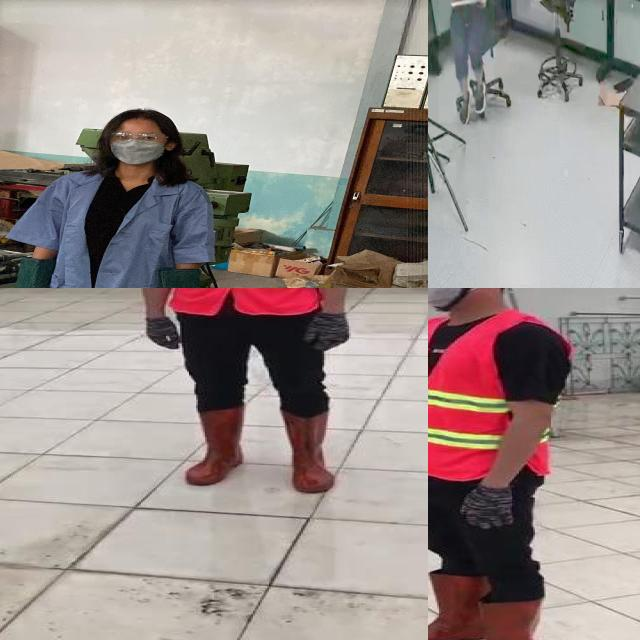boots: (428, 565, 502, 640), (183, 409, 247, 487), (283, 411, 337, 496), (440, 597, 545, 640)
face_mask: (108, 129, 168, 162), (428, 288, 473, 307)
glasses: (106, 130, 172, 145)
hand_glove: (460, 486, 516, 528), (299, 314, 349, 352), (148, 316, 184, 352), (9, 276, 67, 288)
hand_noglove: (474, 0, 487, 9)
head_nohelmet: (104, 106, 178, 130)
person: (428, 288, 584, 640), (121, 288, 368, 504), (0, 102, 223, 288), (438, 0, 495, 123)
shoes: (456, 87, 474, 129), (472, 78, 488, 116)
vest: (428, 315, 560, 477)
